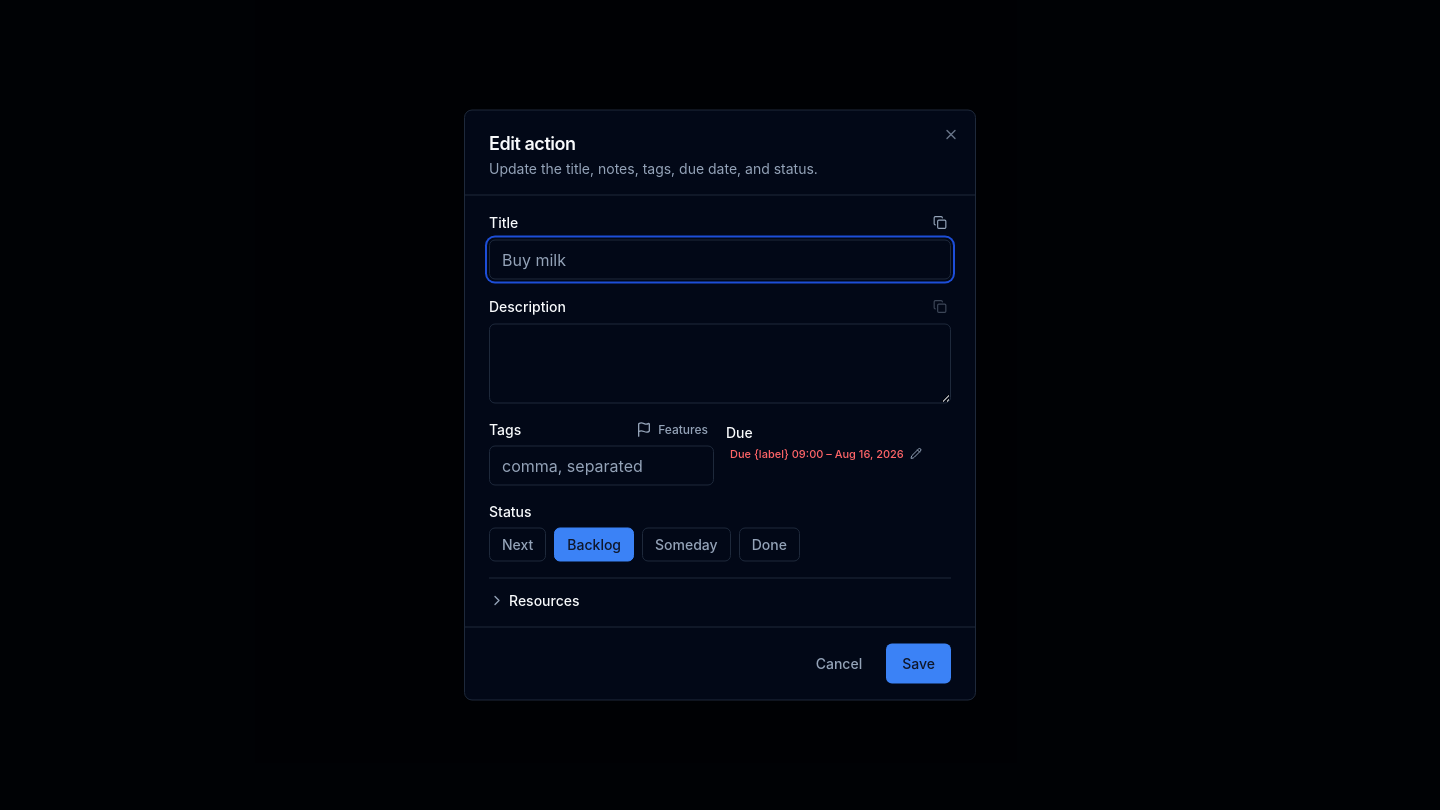
Test case: ActionDialog › auto-expands the extras when the action already has time/range data (#559)
This screenshot has width=1440, height=810.
Step 1. Click the button "Due {label} 09:00 – Aug 16, 2026" → (826, 454), box x1=726 y1=444 x2=926 y2=464
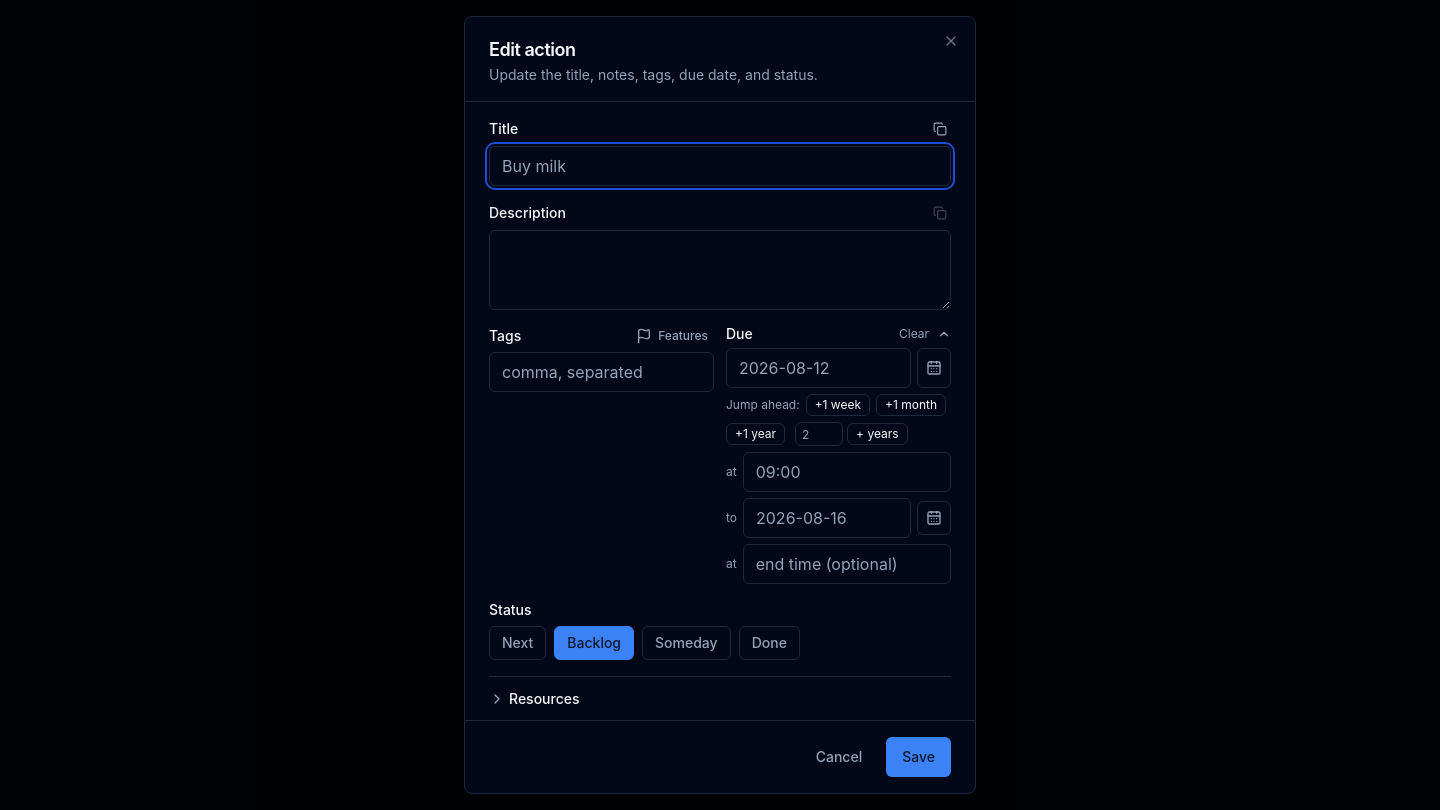
Check: the field named "Due end (optional)" holds "2026-08-16", box x1=743 y1=498 x2=911 y2=538
Check: the field named "Due time (optional)" holds "09:00", box x1=743 y1=452 x2=951 y2=492
